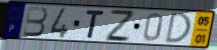0: (141, 12, 165, 43)
4: (48, 6, 70, 40)
B: (22, 6, 49, 38)
D: (164, 12, 193, 45)
T: (85, 9, 106, 40)
Z: (105, 8, 135, 43)
